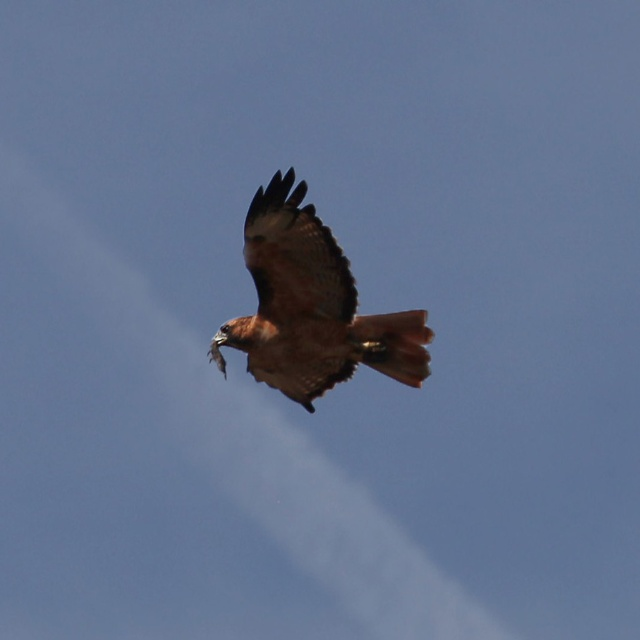Eagle: (211, 165, 441, 417)
